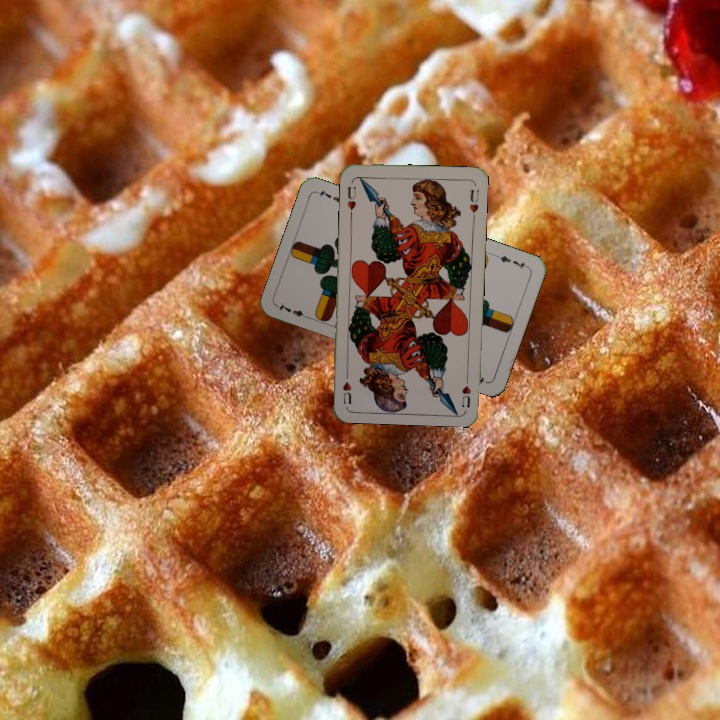E7: (273, 299, 313, 321), (491, 251, 531, 272)
HU: (458, 370, 473, 410), (343, 182, 358, 218)
